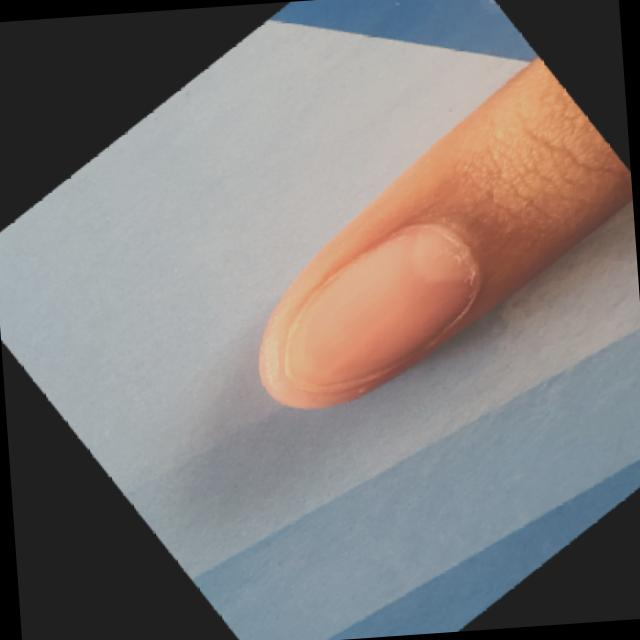Nail: (283, 226, 472, 398)
